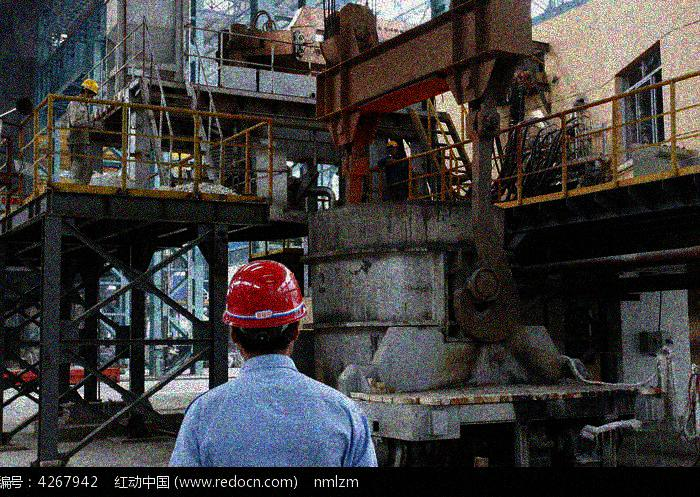helmet: (224, 259, 310, 366), (79, 78, 98, 103), (385, 139, 400, 155)
